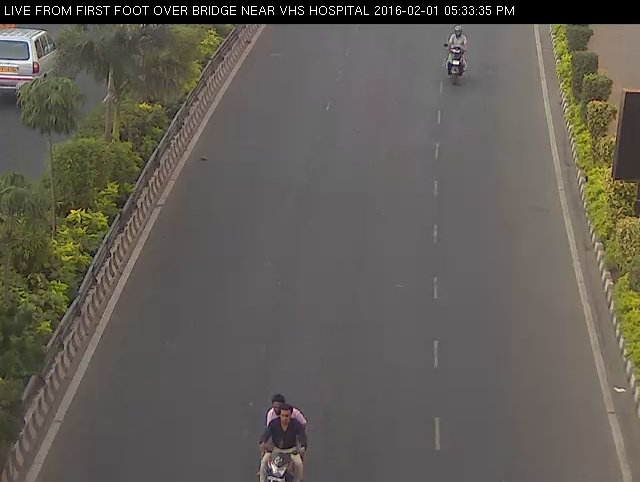Person: (251, 364, 313, 482), (436, 21, 478, 95)
